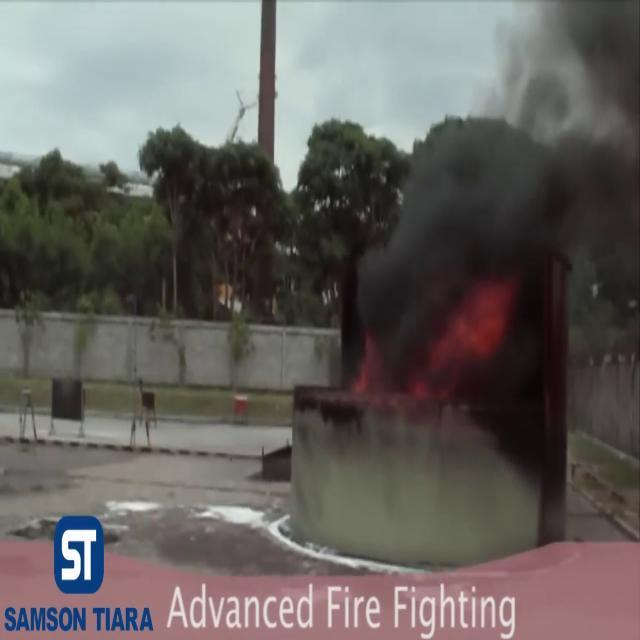Smoke: (344, 0, 640, 451)
